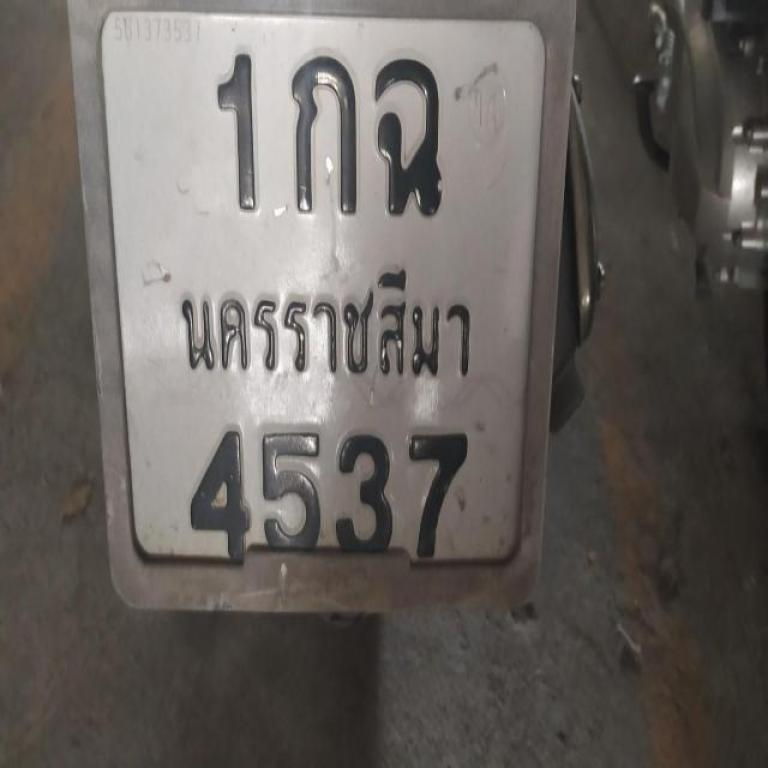license plate: (54, 0, 554, 610)
